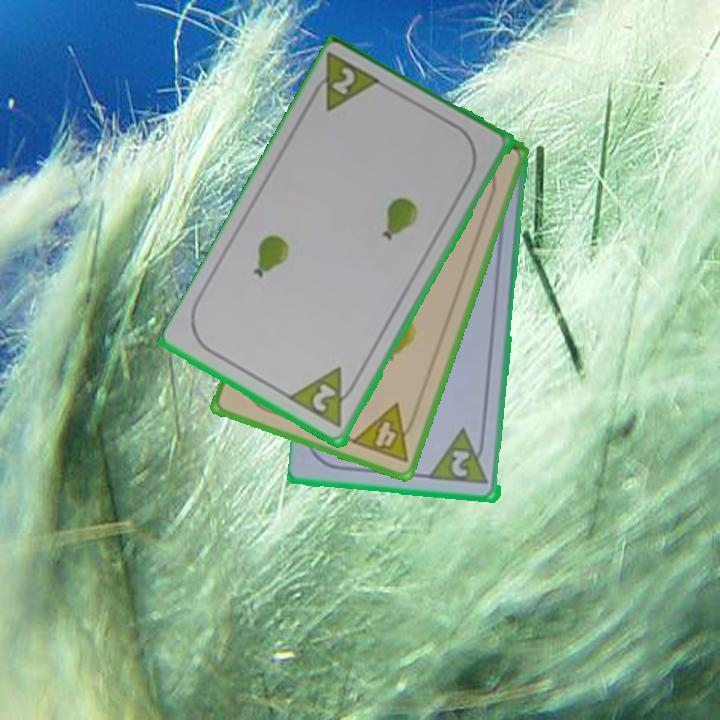2p: (304, 50, 387, 116), (287, 363, 363, 432), (428, 426, 493, 488)
4p: (347, 400, 421, 466)
